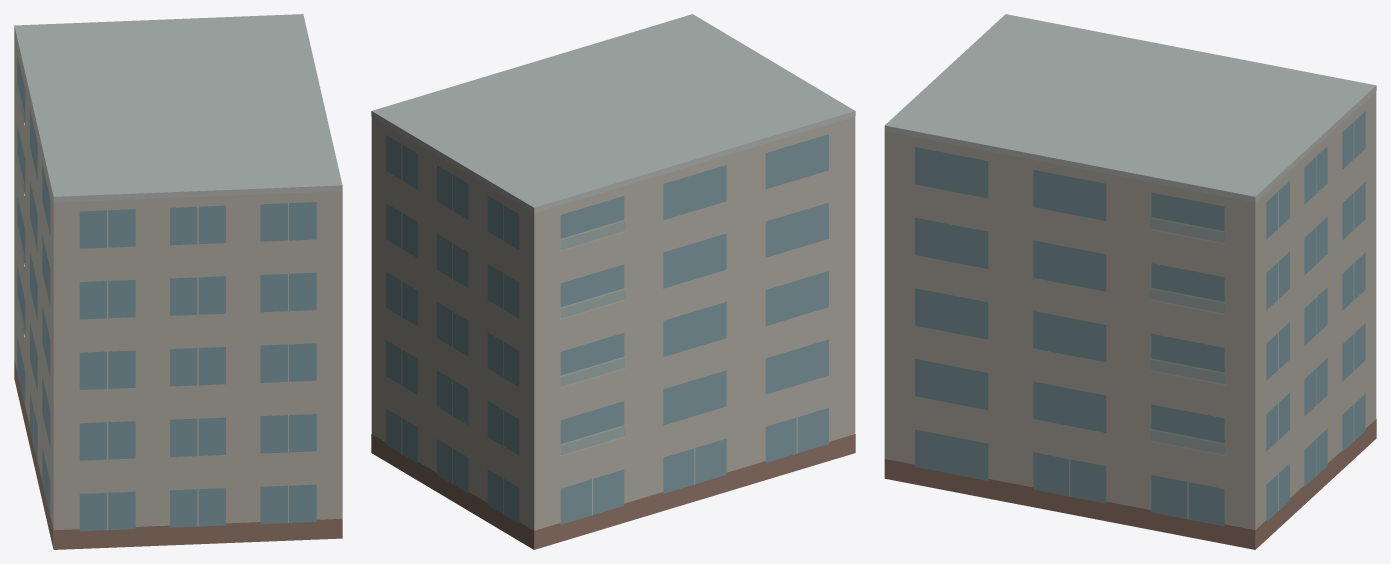
Rendered from survey-upis-32664343.glb.
The picture shows the model from 3 angles, left to right: view 1: azimuth 30°, elevation 25°; view 2: azimuth 150°, elevation 25°; view 3: azimuth 270°, elevation 25°; orthographic projection. The views are drawn at different scales.
Visible parts, largest first — view 1: survey-upis-32664343.tmp; view 2: survey-upis-32664343.tmp; view 3: survey-upis-32664343.tmp.
Part boxes in pixels (x1,y1,x2,y2): survey-upis-32664343.tmp: [14, 14, 342, 549]; survey-upis-32664343.tmp: [371, 14, 855, 549]; survey-upis-32664343.tmp: [884, 14, 1376, 549].
Size of the model in its own units: 16.94 by 15.25 by 19.26.
